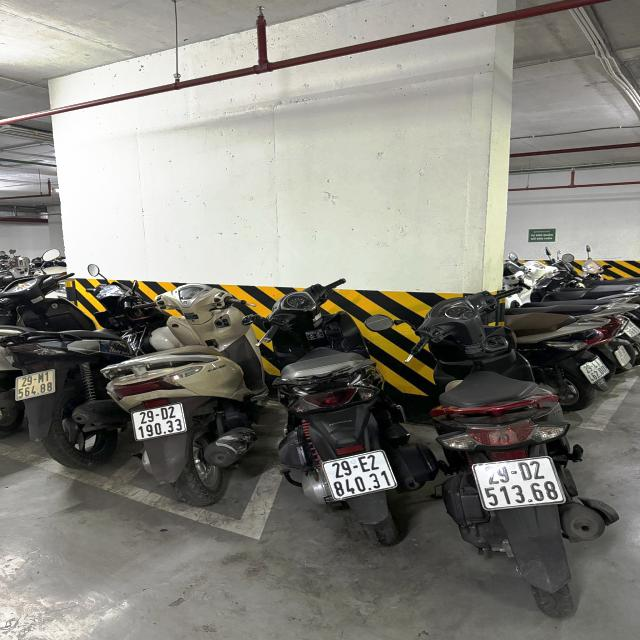license_plate: (471, 456, 569, 511), (320, 449, 402, 504), (129, 402, 190, 444), (15, 369, 58, 403)
